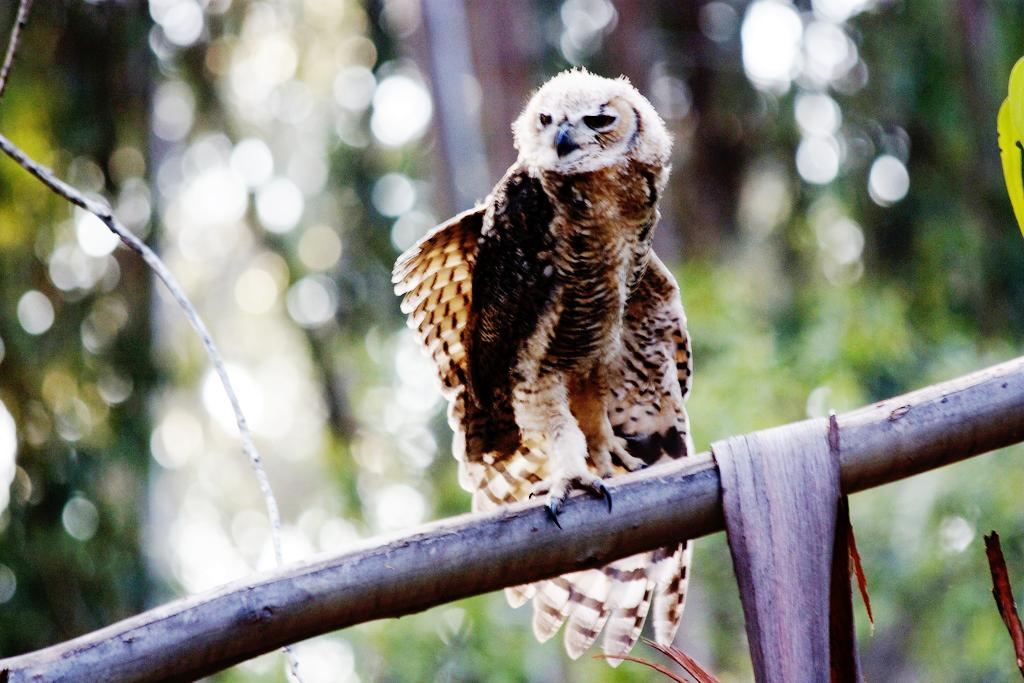Owl: (386, 70, 693, 677)
